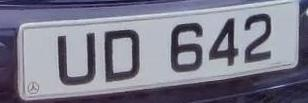2: (241, 8, 276, 69)
4: (207, 12, 243, 75), (205, 13, 242, 73)
6: (165, 15, 209, 82)
D: (100, 23, 148, 86)
U: (50, 27, 101, 90)
